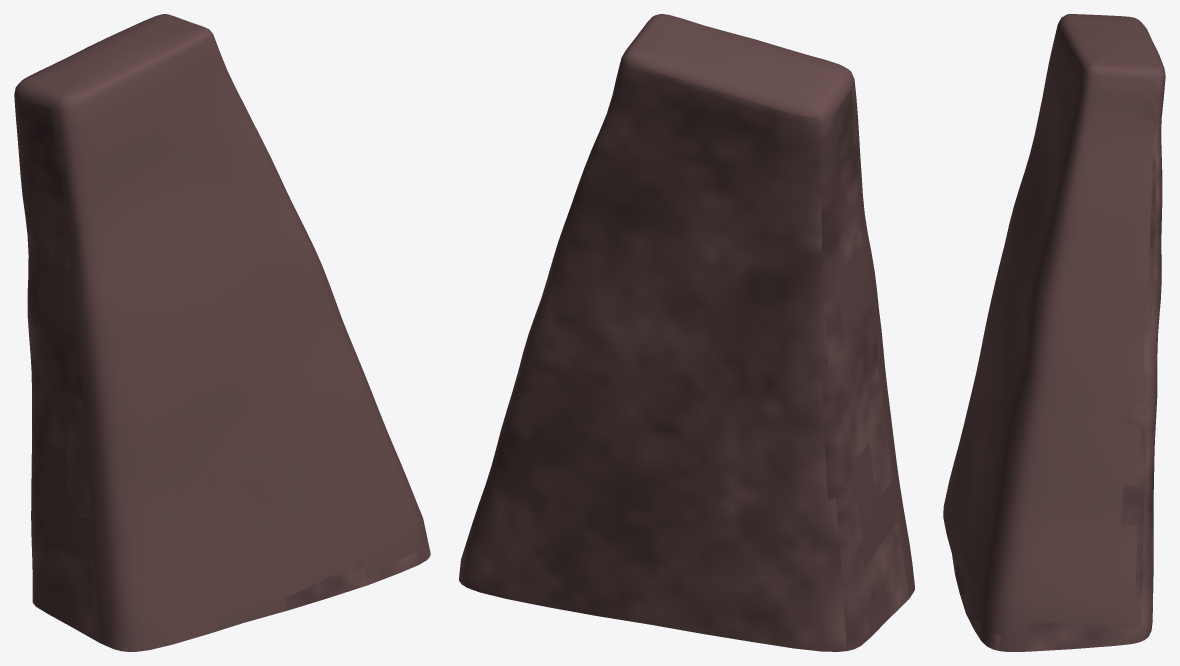
The model's file is TarHenge02.glb.
The picture shows the model from 3 angles, left to right: view 1: azimuth 30°, elevation 25°; view 2: azimuth 150°, elevation 25°; view 3: azimuth 270°, elevation 25°; orthographic projection. The views are drawn at different scales.
Visible parts, largest first — view 1: TarHenge02; view 2: TarHenge02; view 3: TarHenge02.
Part boxes in pixels (x1,y1,x2,y2): TarHenge02: (14, 14, 430, 651); TarHenge02: (459, 14, 914, 651); TarHenge02: (943, 14, 1165, 651).
Bounding box in the file's own units: 1.9 × 2.72 × 1.09.
2 materials, 1 textured.
